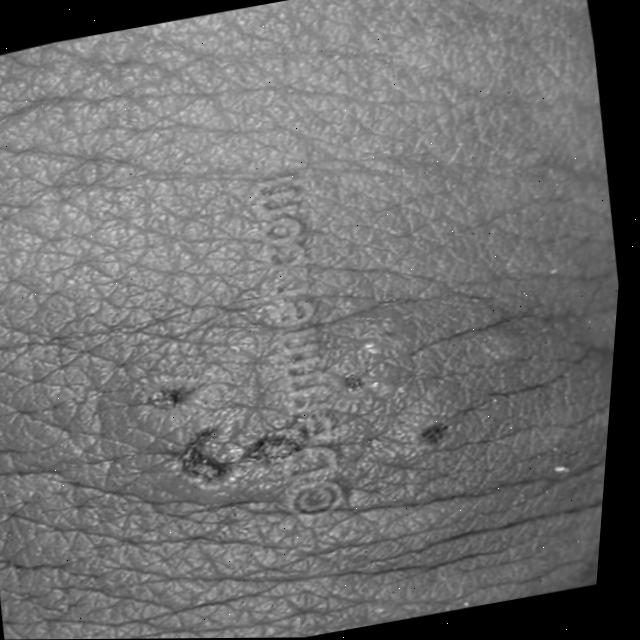Shingles: (104, 351, 439, 547)
